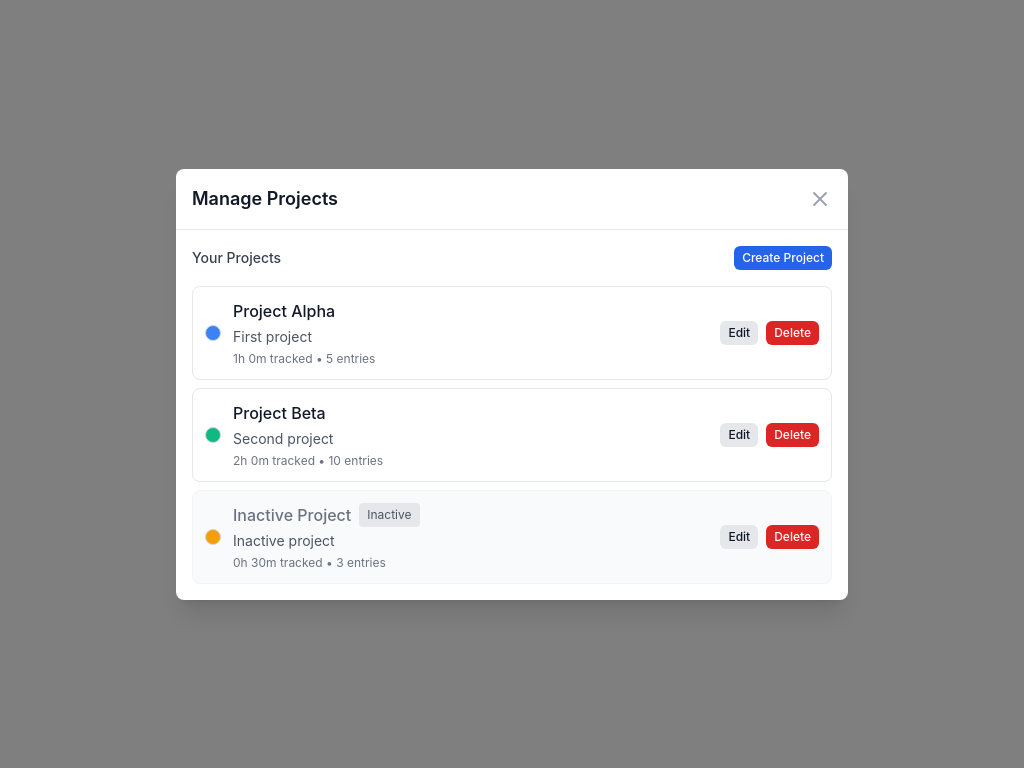
Test: ProjectManagement › opens edit project modal when edit button is clicked
Expected: the heading "Project Alpha" is shown, 233,298 -> 335,322
Click the button "Edit" in the row of "First project": click(739, 332) 720,320 -> 758,344
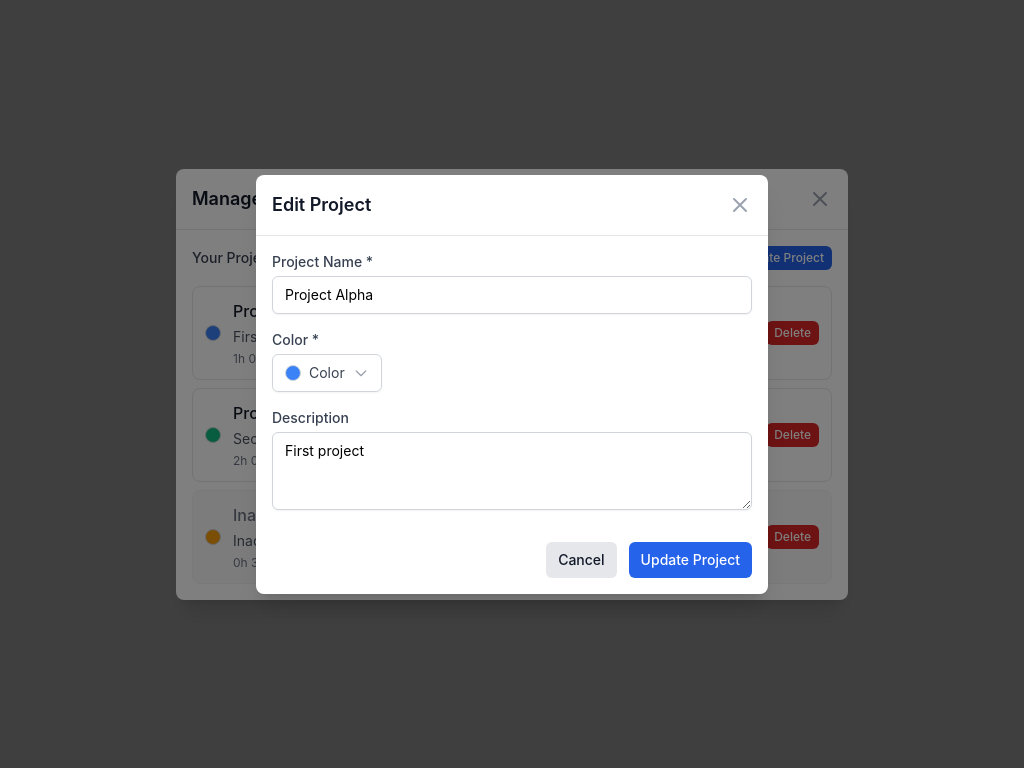
Expected: the heading "Edit Project" is shown, 272,190 -> 371,218
